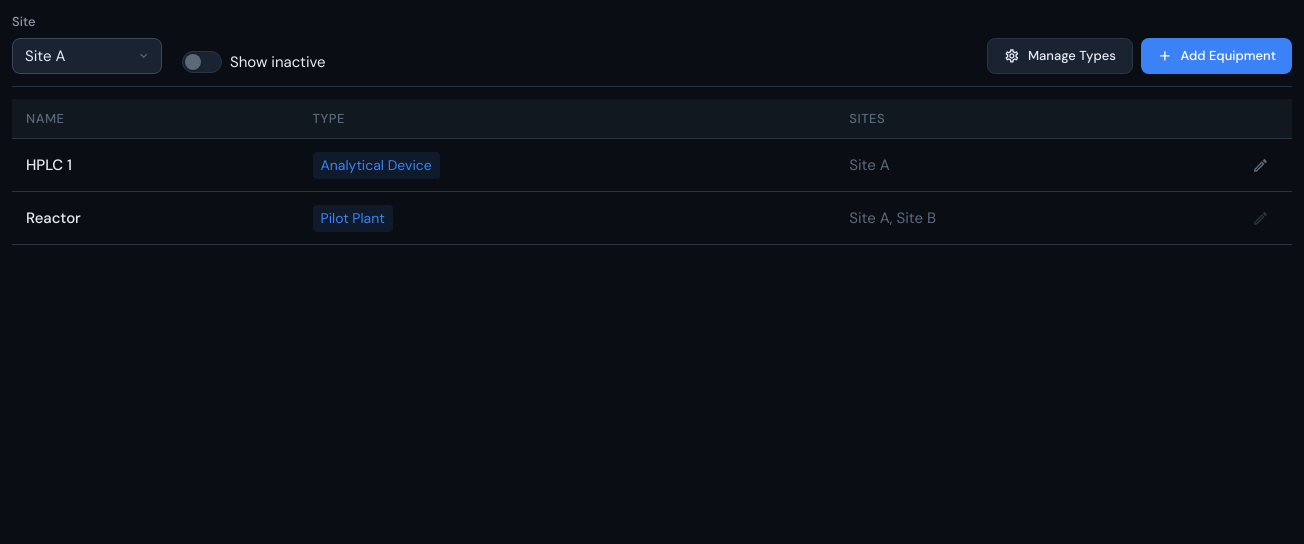
Scenario: EquipmentPanel › lets a superuser edit only equipment on their own sites
The width and height of the screenshot is (1304, 544).
Expected: the text "Reactor" is shown, top-left (26, 207), bottom-right (81, 229)
Expected: the button named "Edit Reactor" is disabled, top-left (1246, 204), bottom-right (1274, 232)
Click the button named "Edit HPLC 1" at (1260, 165), box top-left (1246, 151), bottom-right (1274, 179)
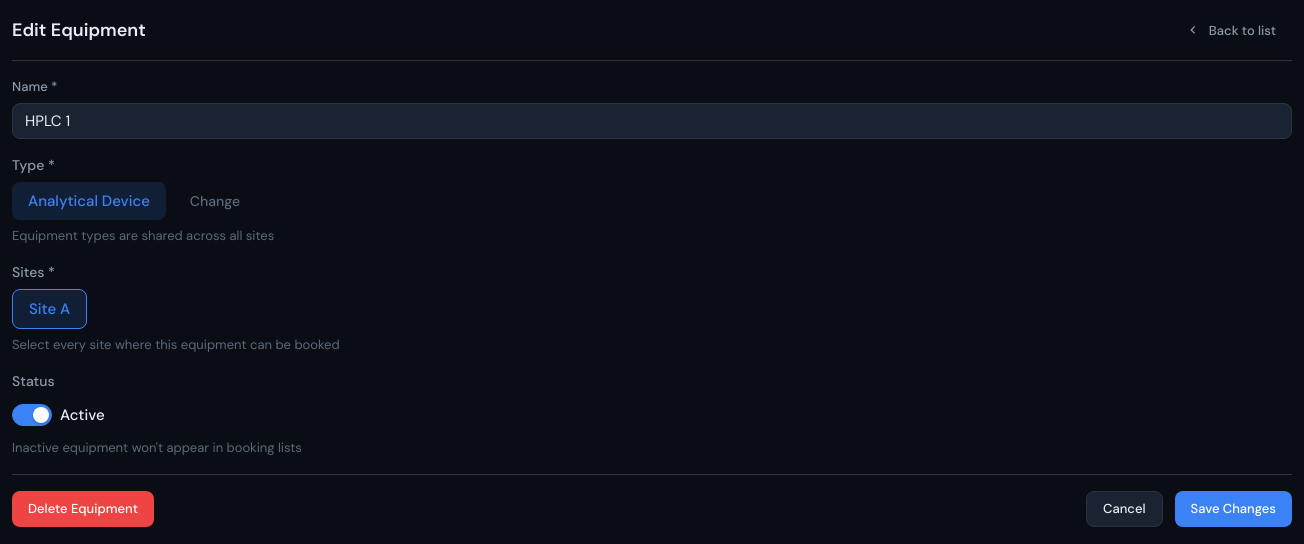
Expected: the checkbox labelled "Site A" is shown, top-left (12, 288), bottom-right (87, 329)
Expected: the cell labelled "Site B" is gone
